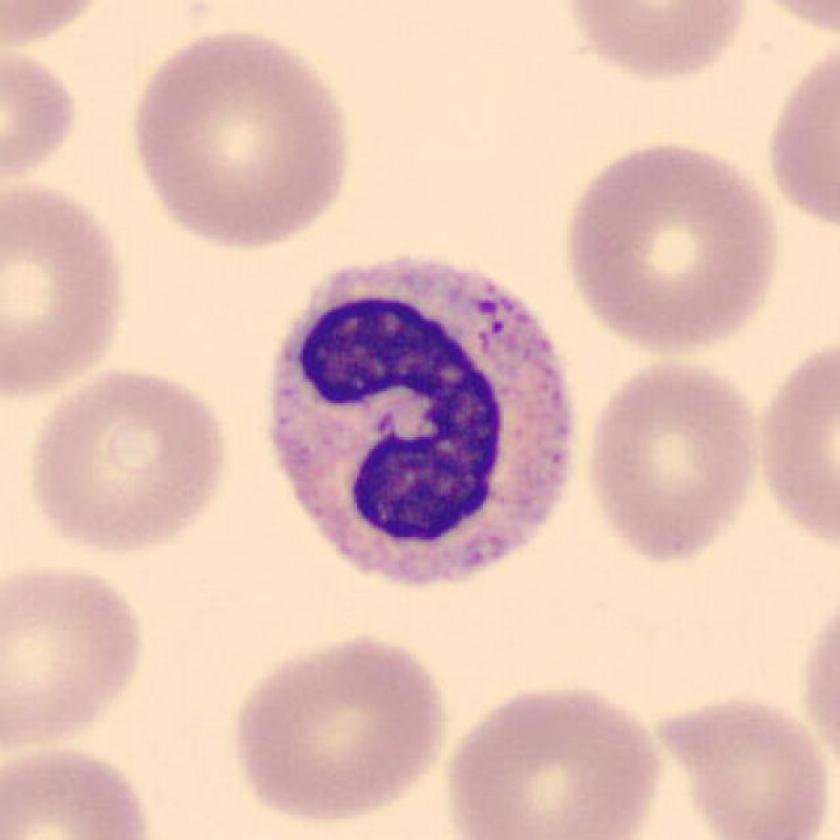neutrophil: (273, 260, 569, 583)
